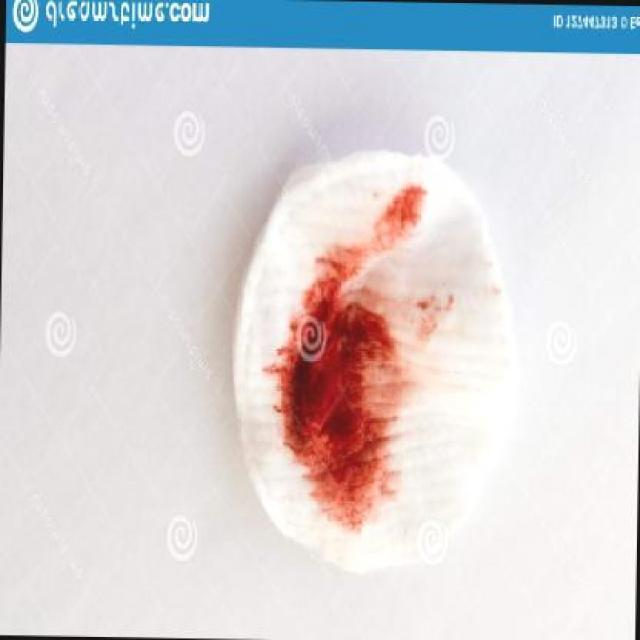wound: (252, 178, 430, 530)
